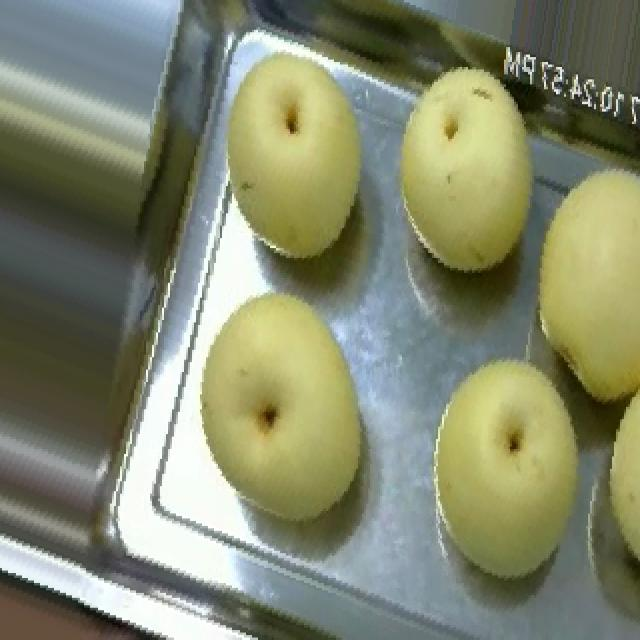Fruit: (160, 263, 398, 546), (394, 327, 620, 603), (372, 45, 568, 295), (192, 35, 384, 283), (496, 142, 640, 430), (0, 533, 170, 640)
